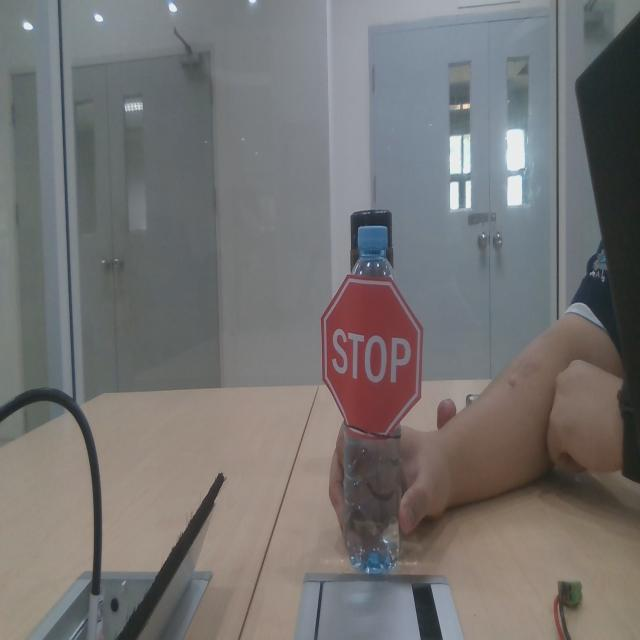Stop: (315, 258, 427, 444)
